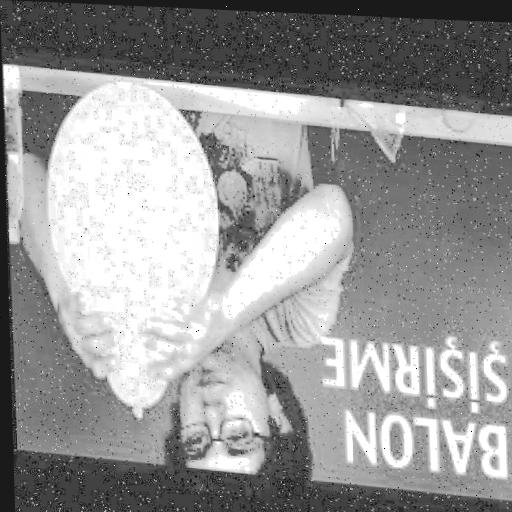balloon: (42, 77, 224, 410)
